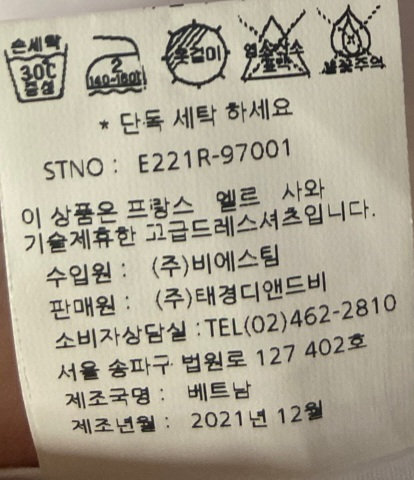KR_hand_wash_30_neutral: (1, 34, 75, 105)
KR_hang_dry_in_shade: (160, 19, 230, 90)
KR_iron_medium_temp_with_cloth: (82, 26, 152, 102)
KR_no_bleach: (232, 9, 319, 91)
